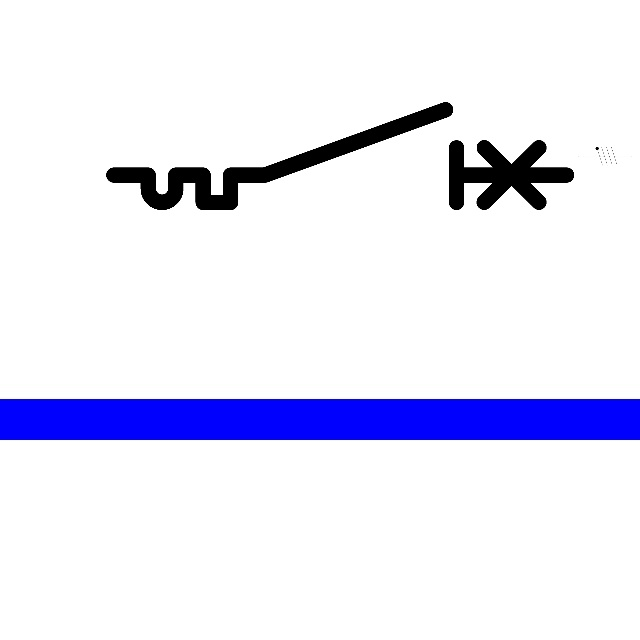interruptor_termomagnetico: (102, 98, 578, 214)
